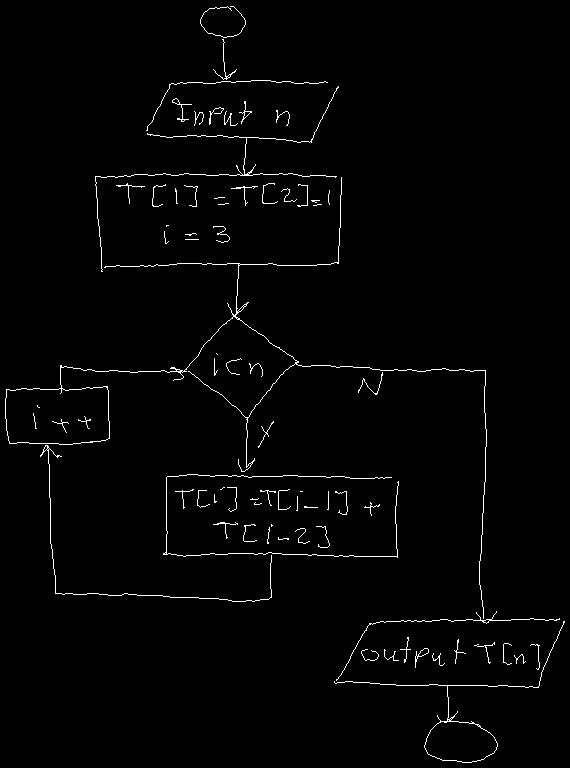arrow: (295, 362, 496, 623), (40, 445, 271, 601), (60, 365, 186, 393), (227, 264, 248, 315), (213, 39, 236, 79), (238, 417, 254, 471), (437, 685, 457, 722), (236, 137, 255, 175)
connection: (424, 721, 497, 762), (200, 6, 245, 37)
data: (334, 618, 564, 687), (146, 80, 338, 142)
decision: (183, 312, 298, 417)
process: (95, 173, 341, 271), (163, 474, 398, 557), (5, 386, 109, 444)
text: (116, 183, 329, 243), (175, 487, 379, 547), (361, 637, 539, 669), (172, 98, 289, 125), (33, 405, 90, 432), (214, 353, 262, 376), (358, 372, 382, 394), (258, 421, 273, 447)
